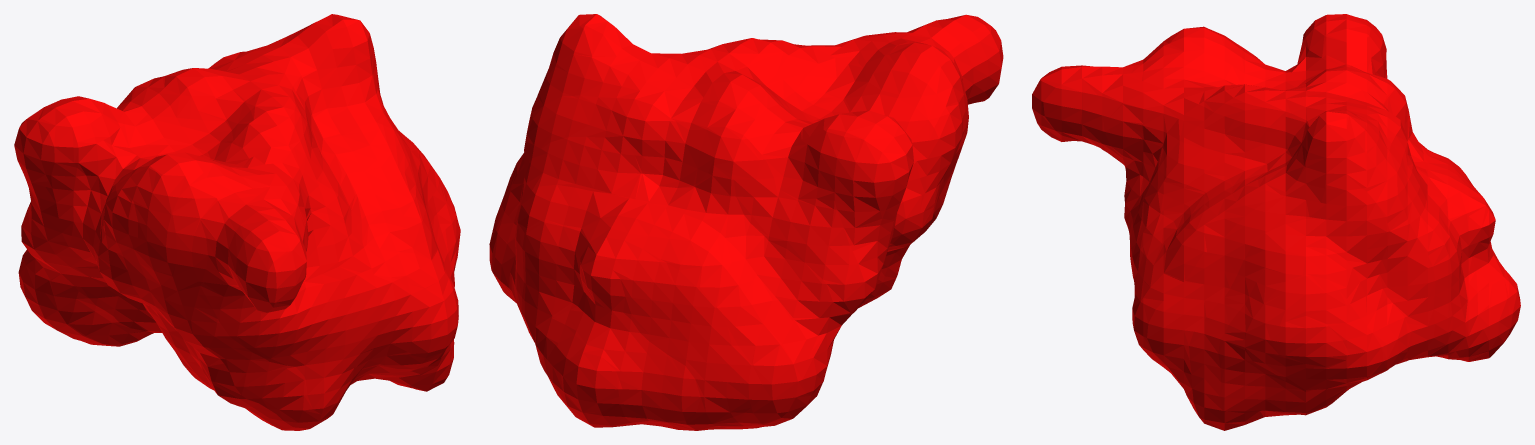
File: msrA_coarse.dae
3 renders of one model, left to right at view 1: azimuth 30°, elevation 25°; view 2: azimuth 150°, elevation 25°; view 3: azimuth 270°, elevation 25°, orthographic. The views are drawn at different scales.
Parts seen in each view (by area): view 1: msrA; view 2: msrA; view 3: msrA.
Boxes of the visible parts, left/top/right/bottom form: msrA: left=14, top=14, right=460, bottom=430; msrA: left=489, top=14, right=1003, bottom=430; msrA: left=1032, top=14, right=1520, bottom=430.
Bounding box in the file's own units: 50.64 × 40.18 × 58.13.
